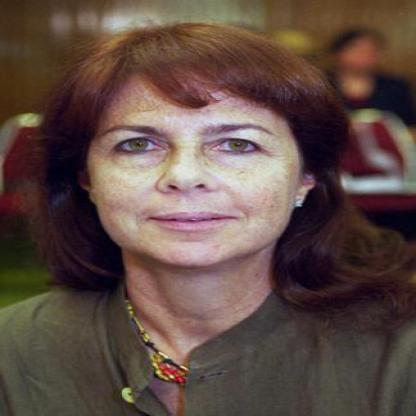face: (84, 24, 306, 270), (336, 30, 385, 75)
